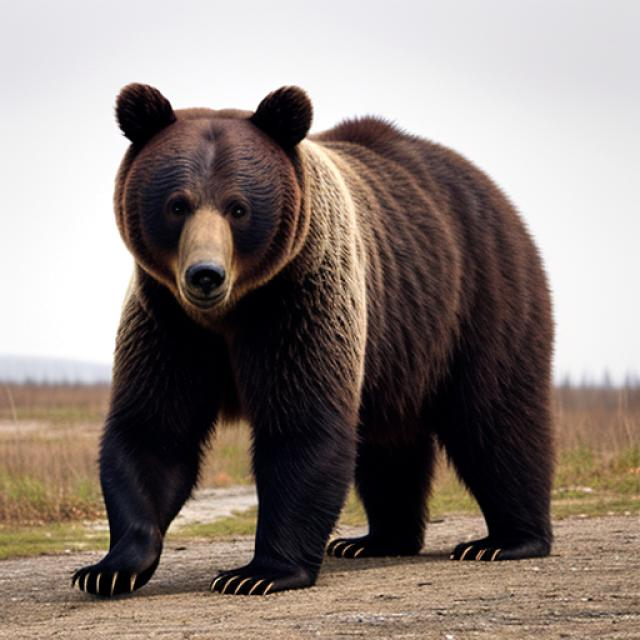bear: (97, 75, 574, 577)
